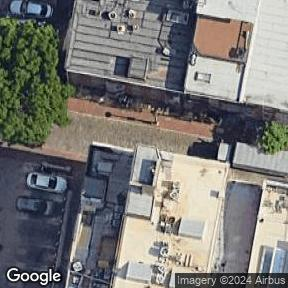vegetation: (0, 17, 77, 147), (258, 121, 288, 154)
